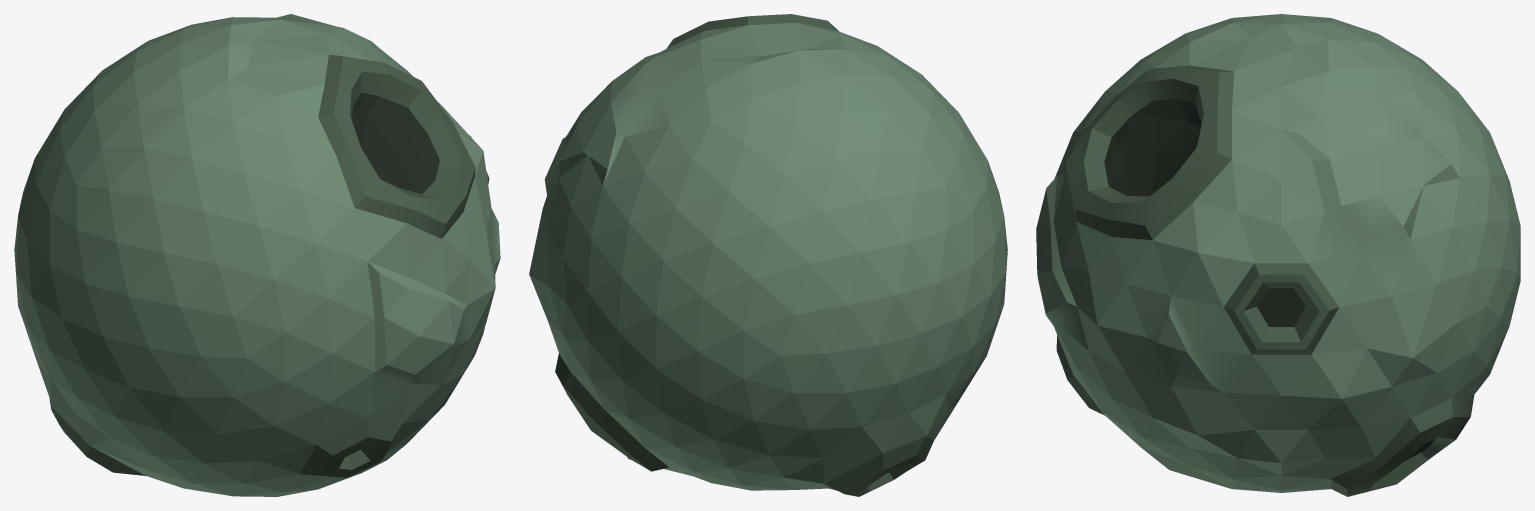
File: Mdl_Moon2.fbx
3 views of the same model, side by side, from view 1: azimuth 30°, elevation 25°; view 2: azimuth 150°, elevation 25°; view 3: azimuth 270°, elevation 25° (orthographic). The views are drawn at different scales.
Visible parts, largest first — view 1: moon_1; view 2: moon_1; view 3: moon_1.
Part boxes in pixels (x1,y1,x2,y2): moon_1: (14,14,500,496); moon_1: (529,14,1007,496); moon_1: (1036,14,1520,496).
Size of the model in its own units: 2.04 by 1.99 by 2.02.
